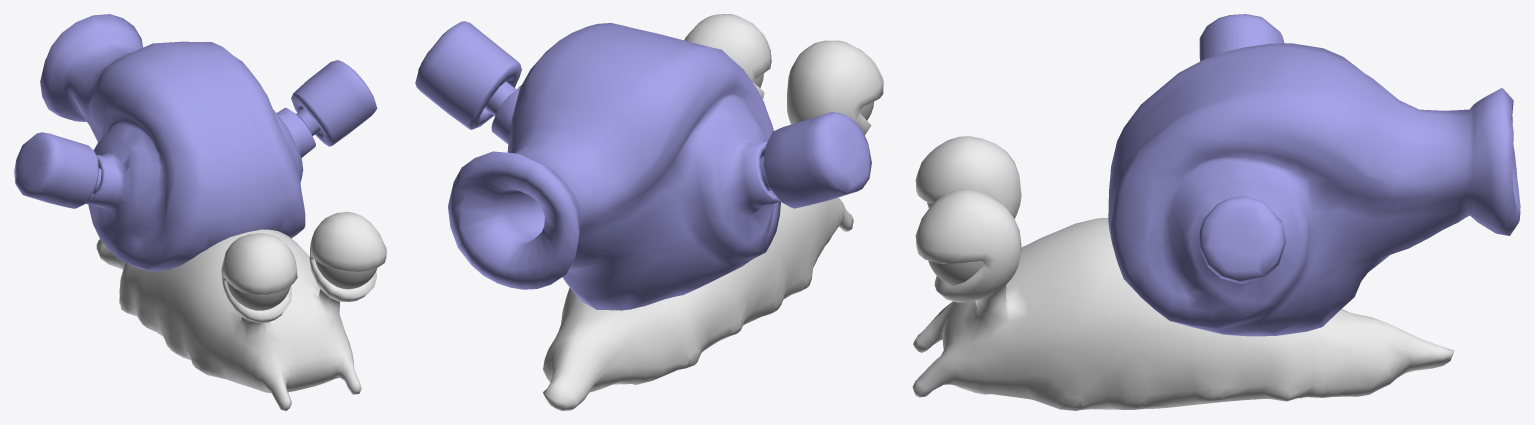
The model's file is Snail_retopobackup.fbx.
The picture shows the model from 3 angles, left to right: view 1: azimuth 30°, elevation 25°; view 2: azimuth 150°, elevation 25°; view 3: azimuth 270°, elevation 25°; orthographic projection. The views are drawn at different scales.
Visible parts, largest first — view 1: Plane, retopo, Sphere; view 2: Plane, retopo; view 3: Plane, retopo, Sphere.
Part boxes in pixels (box(x1,y1,x2,y2)): Plane: box(14, 14, 377, 271); retopo: box(96, 211, 386, 410); Sphere: box(226, 260, 377, 310); Plane: box(415, 21, 871, 310); retopo: box(543, 14, 883, 410); Plane: box(1108, 14, 1520, 336); retopo: box(912, 136, 1454, 410); Sphere: box(927, 202, 983, 285).
Bounding box in the file's own units: 3.97 × 4.72 × 2.85.
